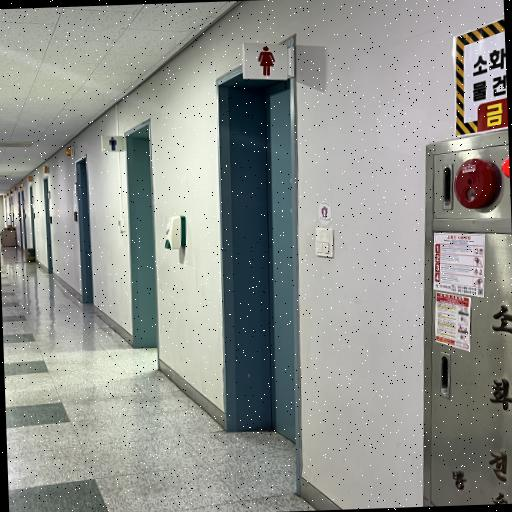door: (216, 34, 299, 496)
